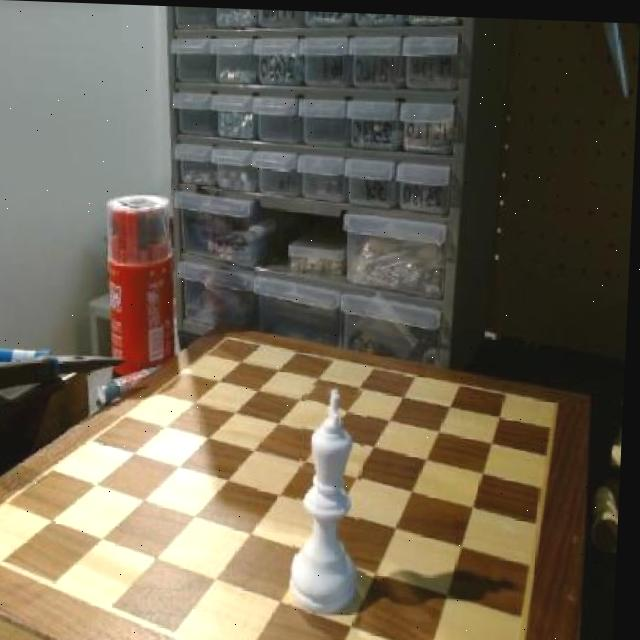white-bishop: (295, 385, 370, 614)
